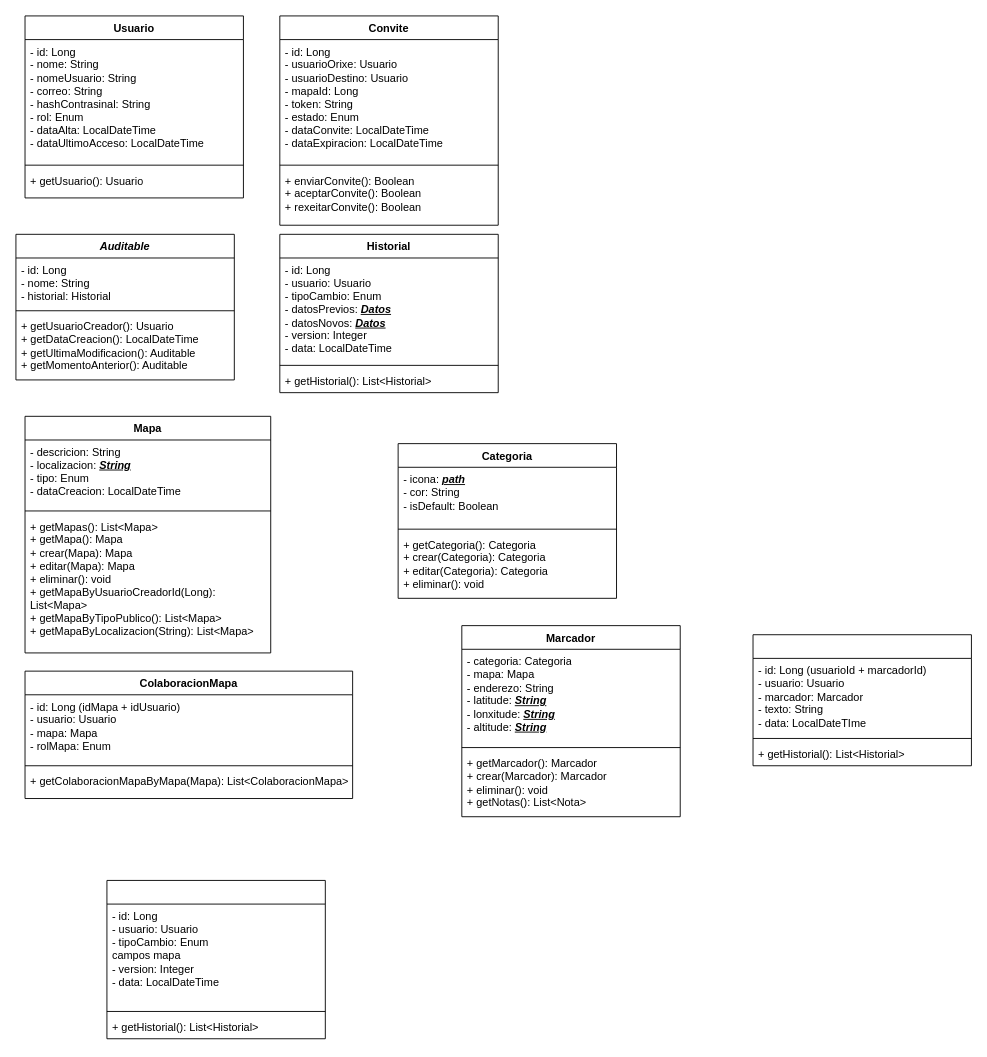
Image size: 987x1057. Some labels were removed from this diagram. The shapes that lost their labels are listed below. From the top down, each one's box as (x1, y1, x2, y2) in pixels, then its label:
(752, 634, 971, 766): Nota
(106, 880, 325, 1039): HistorialMapa
